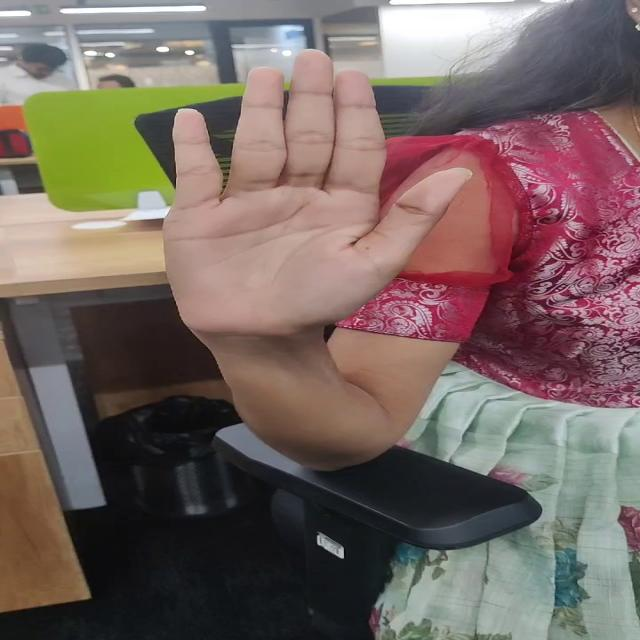no-gloves: (156, 41, 474, 337)
